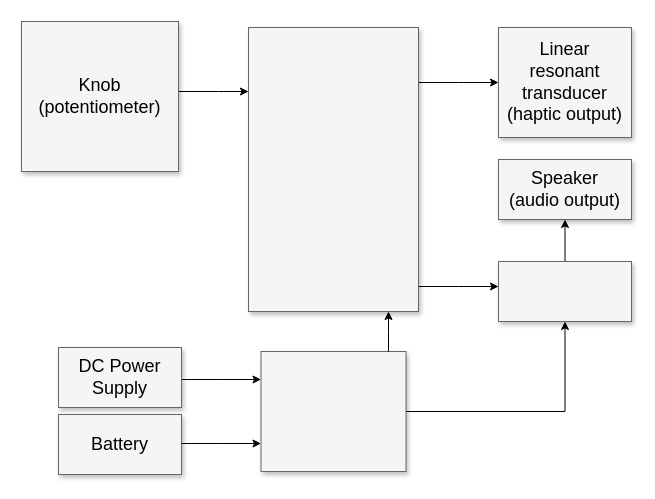
The diagram is 655 pixels wide and 499 high, and some of its shapes have lost their labels. Each missing label, with the centre of its shape:
Amplifier: (x=566, y=292)
Bela (Pure Data): (x=334, y=170)
Power management: (x=334, y=412)
